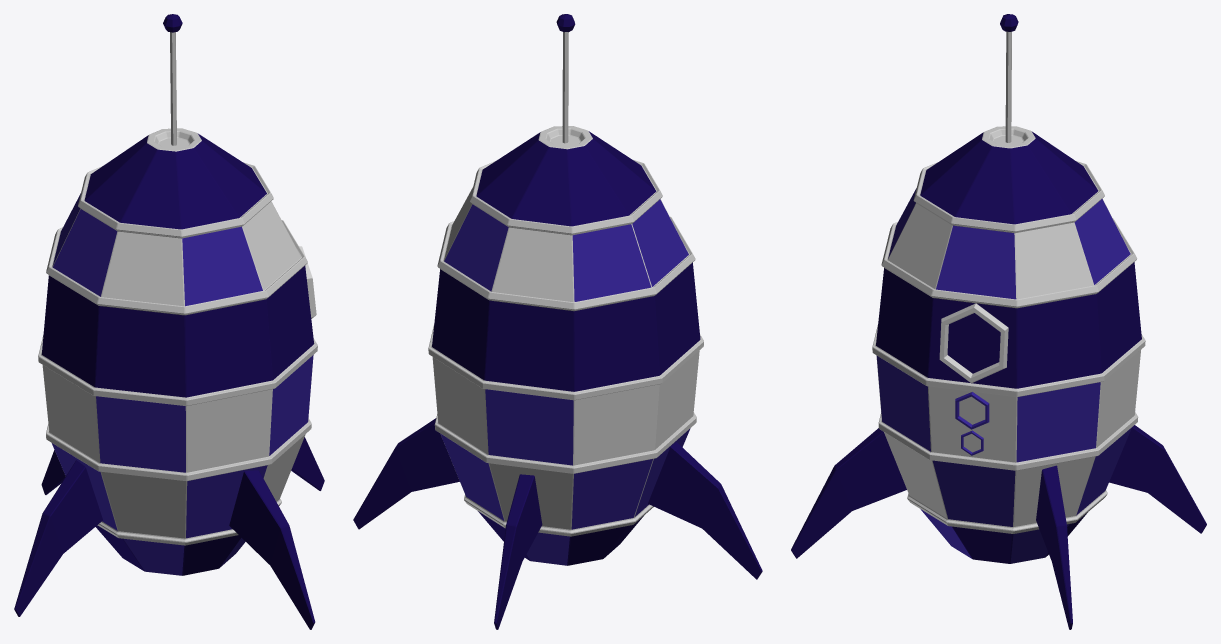
Rendered from fusee.fbx.
The picture shows the model from 3 angles, left to right: view 1: azimuth 30°, elevation 25°; view 2: azimuth 150°, elevation 25°; view 3: azimuth 270°, elevation 25°; orthographic projection. The views are drawn at different scales.
Visible parts, largest first — view 1: Cylinder006; view 2: Cylinder006; view 3: Cylinder006.
Part boxes in pixels (bbox=[...]): Cylinder006: bbox=[14, 14, 324, 629]; Cylinder006: bbox=[353, 14, 762, 629]; Cylinder006: bbox=[791, 14, 1206, 629].
Bounding box in the file's own units: 328 × 472 × 334.
